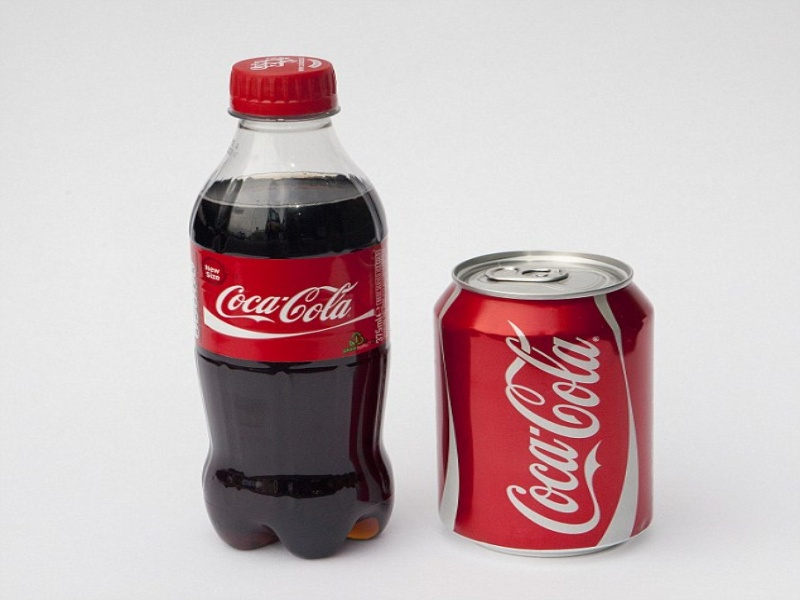coke-bottle-700ml: (197, 48, 397, 558)
coke-can: (429, 247, 656, 558)
